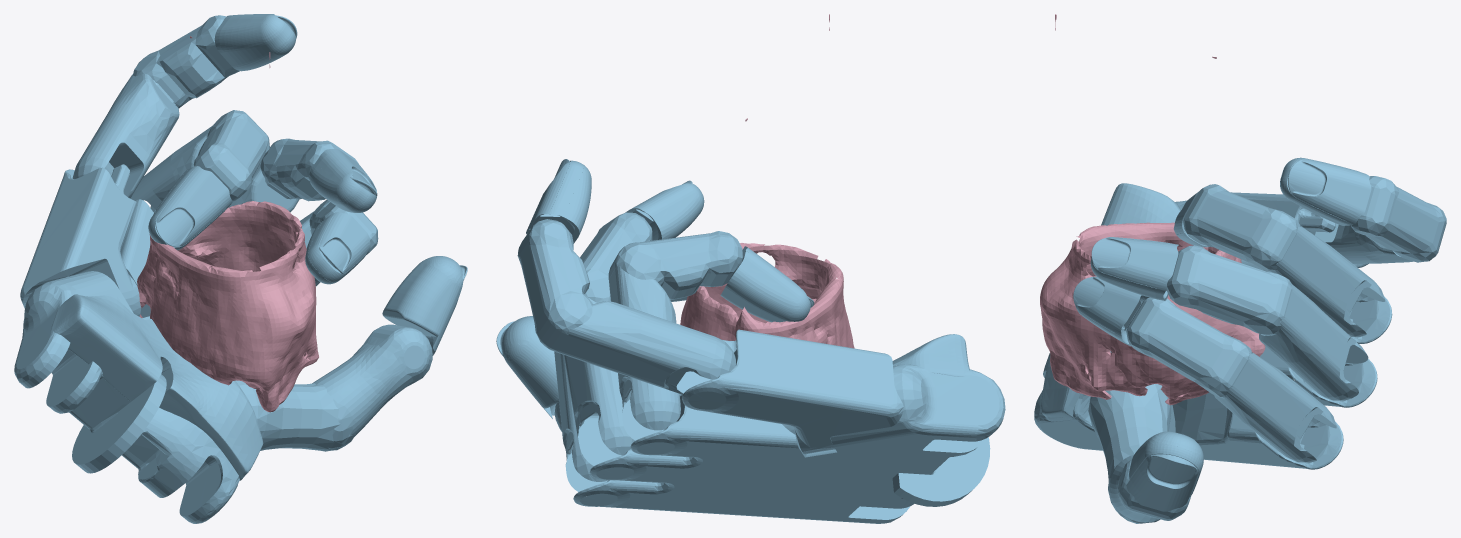
3 renders of one model, left to right at view 1: azimuth 30°, elevation 25°; view 2: azimuth 150°, elevation 25°; view 3: azimuth 270°, elevation 25°, orthographic. The views are drawn at different scales.
Parts seen in each view (by area): view 1: hand, world; view 2: hand, world; view 3: hand, world.
Part boxes in pixels (x1,y1,x2,y2): hand: [14, 14, 467, 523]; world: [137, 36, 318, 412]; hand: [496, 159, 1005, 523]; world: [680, 14, 854, 348]; hand: [1034, 157, 1446, 523]; world: [1040, 14, 1265, 405].
Bounding box in the file's own units: 0.1674 × 0.1599 × 0.1286.
